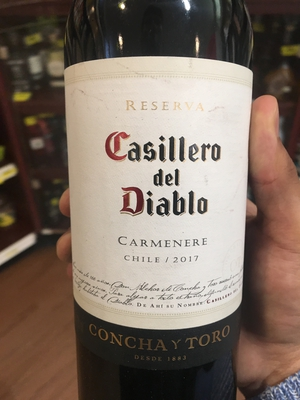casillero del diablo carmenere: (56, 23, 267, 400)
